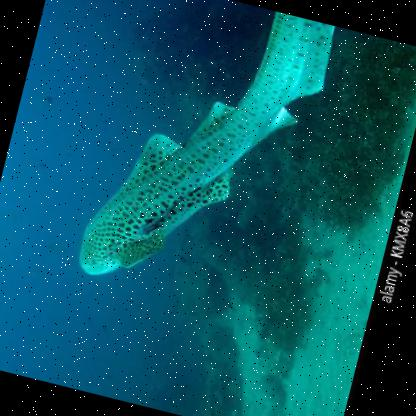zebra_shark: (23, 0, 365, 344)
